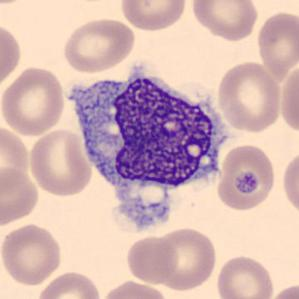Monocyte: (69, 59, 235, 227)
Platelets: (228, 170, 265, 196)
RBC: (215, 59, 284, 134), (0, 63, 67, 137), (27, 127, 93, 198), (60, 16, 137, 74), (152, 225, 218, 292), (0, 221, 64, 287), (216, 142, 278, 209), (189, 0, 260, 42), (213, 252, 276, 299), (255, 8, 298, 75), (124, 234, 180, 285), (0, 165, 41, 228), (118, 0, 189, 33), (0, 123, 32, 196), (35, 268, 103, 299), (0, 20, 24, 91), (277, 62, 299, 137), (100, 278, 170, 299), (280, 147, 299, 220), (266, 281, 299, 299)
